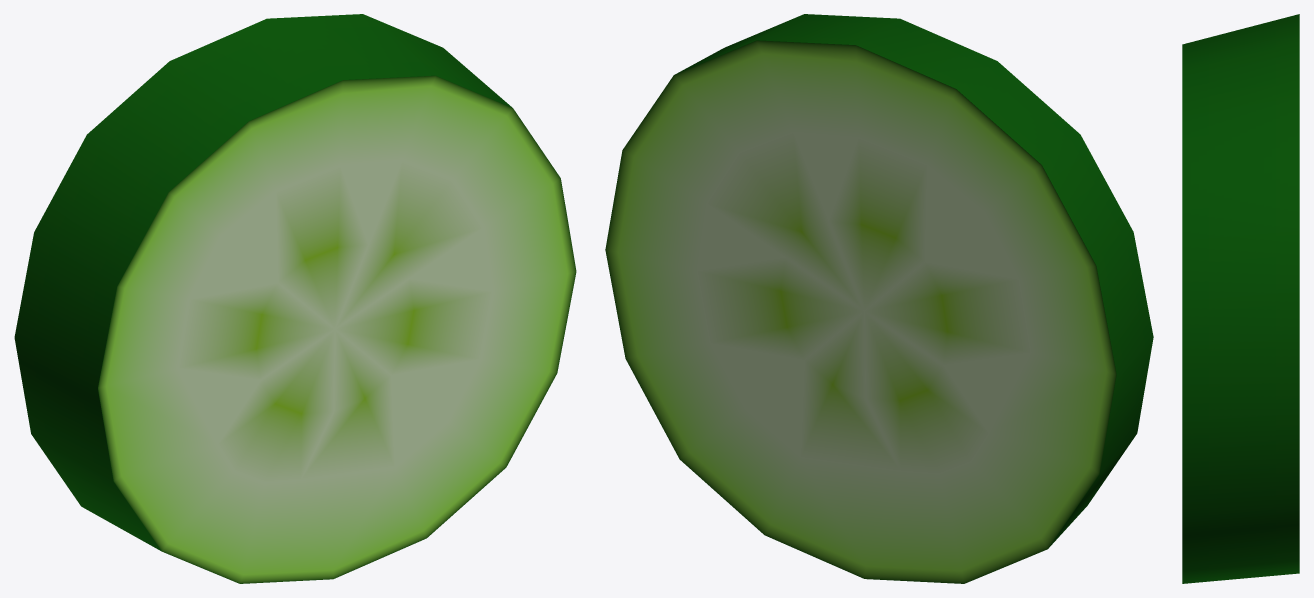
Rendered from Cucumber_Slice_03.fbx.
3 renders of one model, left to right at view 1: azimuth 30°, elevation 25°; view 2: azimuth 150°, elevation 25°; view 3: azimuth 270°, elevation 25°, orthographic. The views are drawn at different scales.
Parts seen in each view (by area): view 1: Cucumber_Slice_03; view 2: Cucumber_Slice_03; view 3: Cucumber_Slice_03.
Part boxes in pixels (left/top/right/bottom): Cucumber_Slice_03: left=14, top=14, right=576, bottom=583; Cucumber_Slice_03: left=605, top=14, right=1153, bottom=583; Cucumber_Slice_03: left=1182, top=14, right=1299, bottom=583.
Size of the model in its own units: 4.18 by 4.12 by 0.8564.
